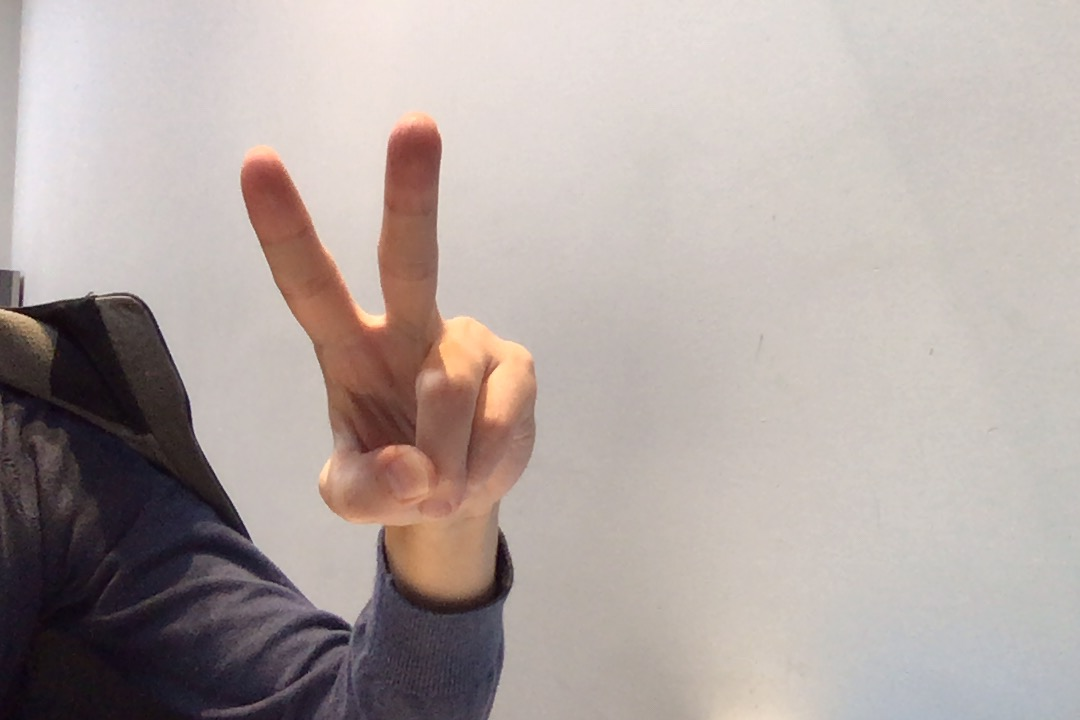peacesign: (228, 104, 559, 539)
